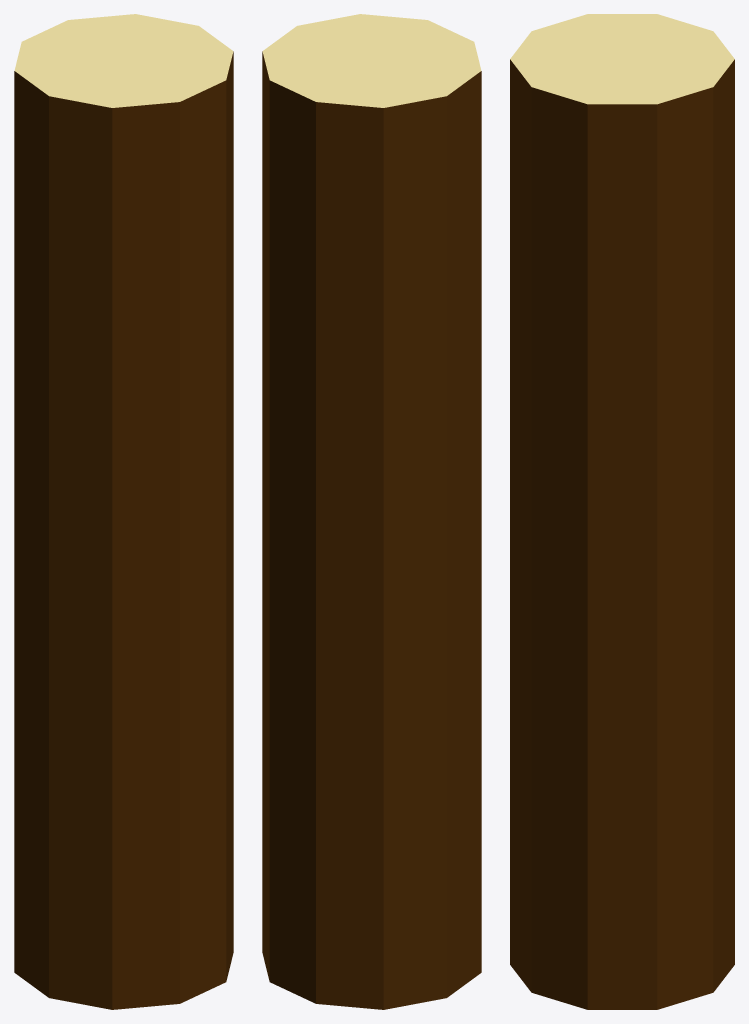
The model's file is Log.fbx.
3 renders of one model, left to right at view 1: azimuth 30°, elevation 25°; view 2: azimuth 150°, elevation 25°; view 3: azimuth 270°, elevation 25°, orthographic.
Visible parts, largest first — view 1: Cylinder; view 2: Cylinder; view 3: Cylinder.
Part boxes in pixels (bbox=[...]): Cylinder: bbox=[14, 14, 233, 1009]; Cylinder: bbox=[262, 14, 481, 1009]; Cylinder: bbox=[510, 14, 734, 1009].
Size of the model in its own units: 85.6 by 400 by 90.
